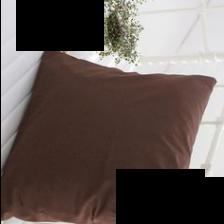brown: (0, 47, 215, 224)
